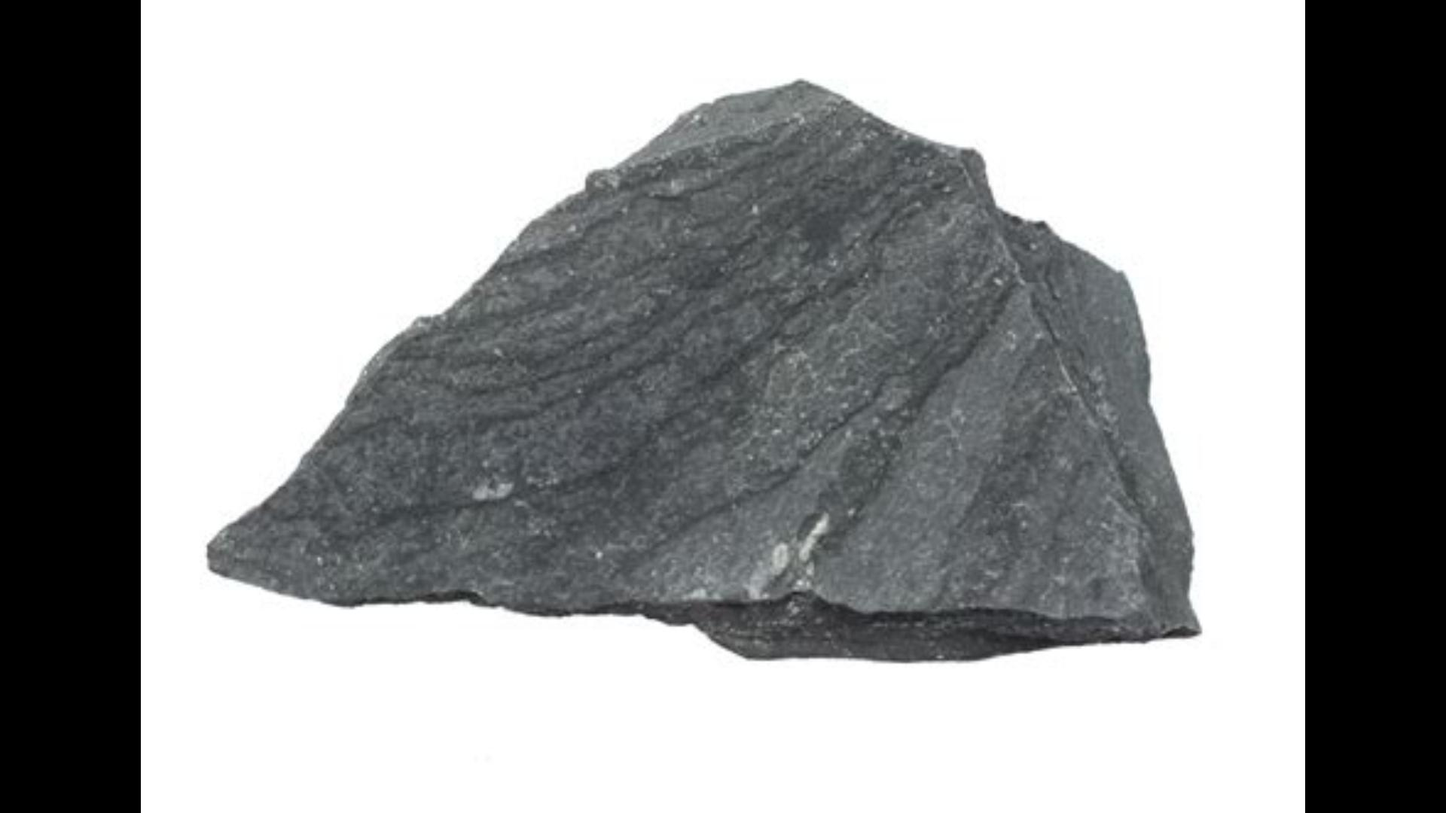rock: (210, 84, 1195, 656)
